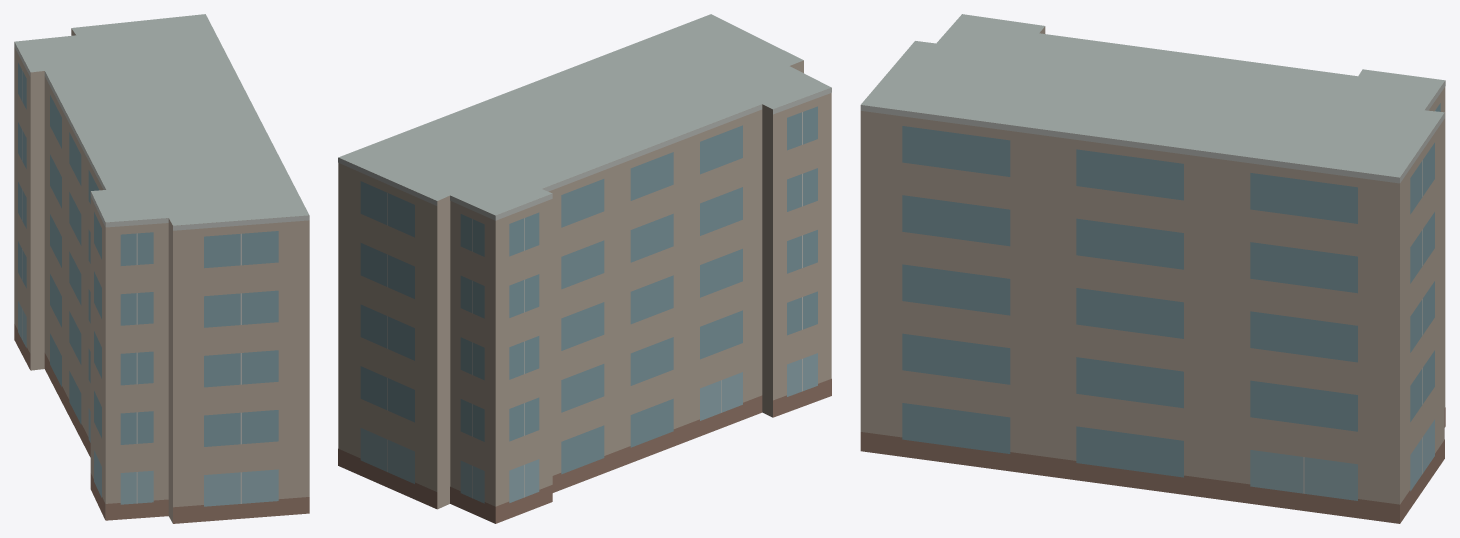
The model's file is survey-upis-32975731.glb.
The picture shows the model from 3 angles, left to right: view 1: azimuth 30°, elevation 25°; view 2: azimuth 150°, elevation 25°; view 3: azimuth 270°, elevation 25°; orthographic projection. The views are drawn at different scales.
Parts seen in each view (by area): view 1: survey-upis-32975731.tmp; view 2: survey-upis-32975731.tmp; view 3: survey-upis-32975731.tmp.
Part boxes in pixels (box(x1,y1,x2,y2)): survey-upis-32975731.tmp: box(14, 14, 309, 523); survey-upis-32975731.tmp: box(338, 14, 831, 523); survey-upis-32975731.tmp: box(860, 14, 1445, 523).
Size of the model in its own units: 14.6 by 14.4 by 22.05.
